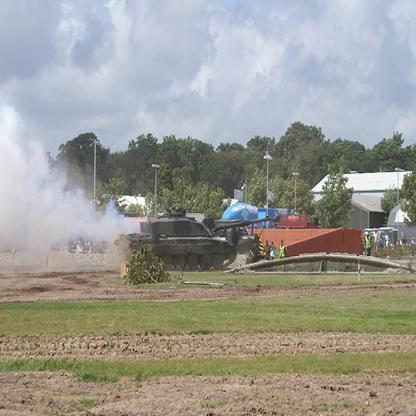Tank: (115, 202, 275, 280)
